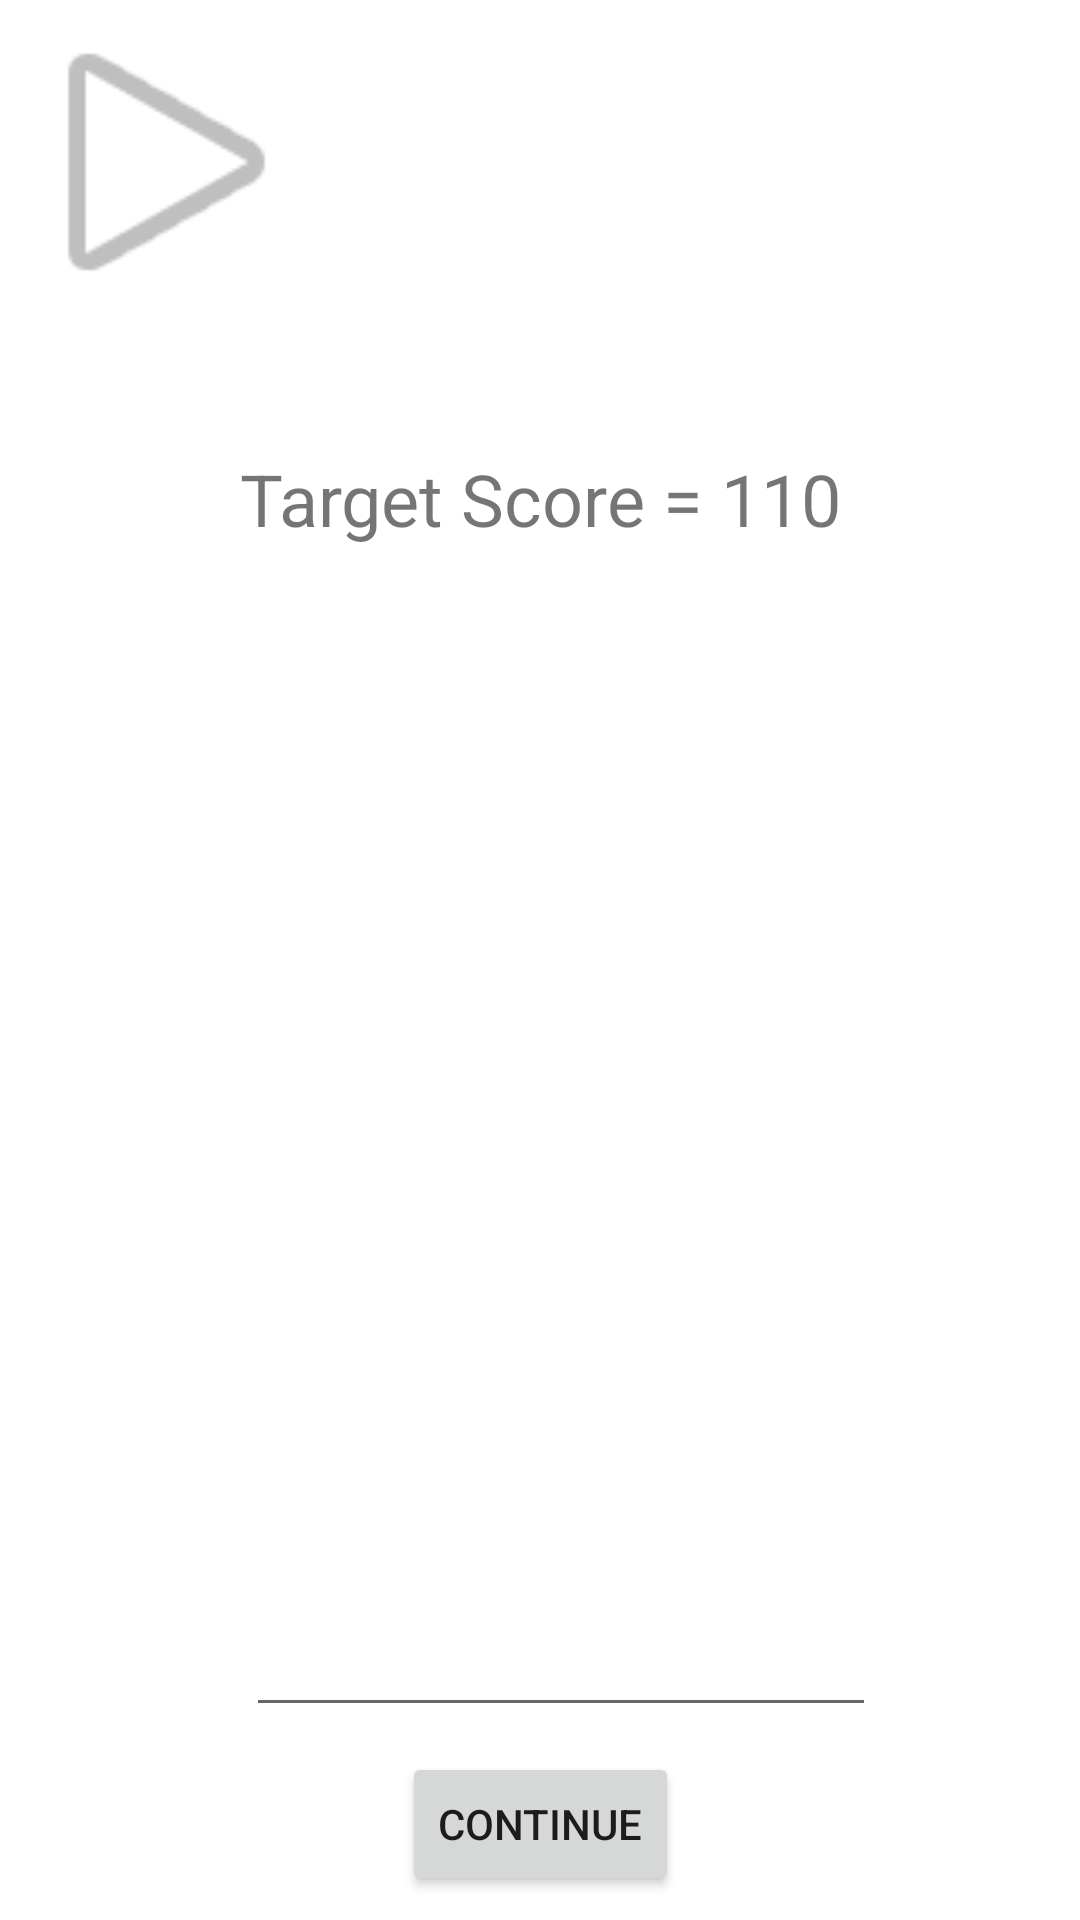

Point at icon controls on the screen. Image size 1080*1920, points as [x,y].
play: [166,162]
